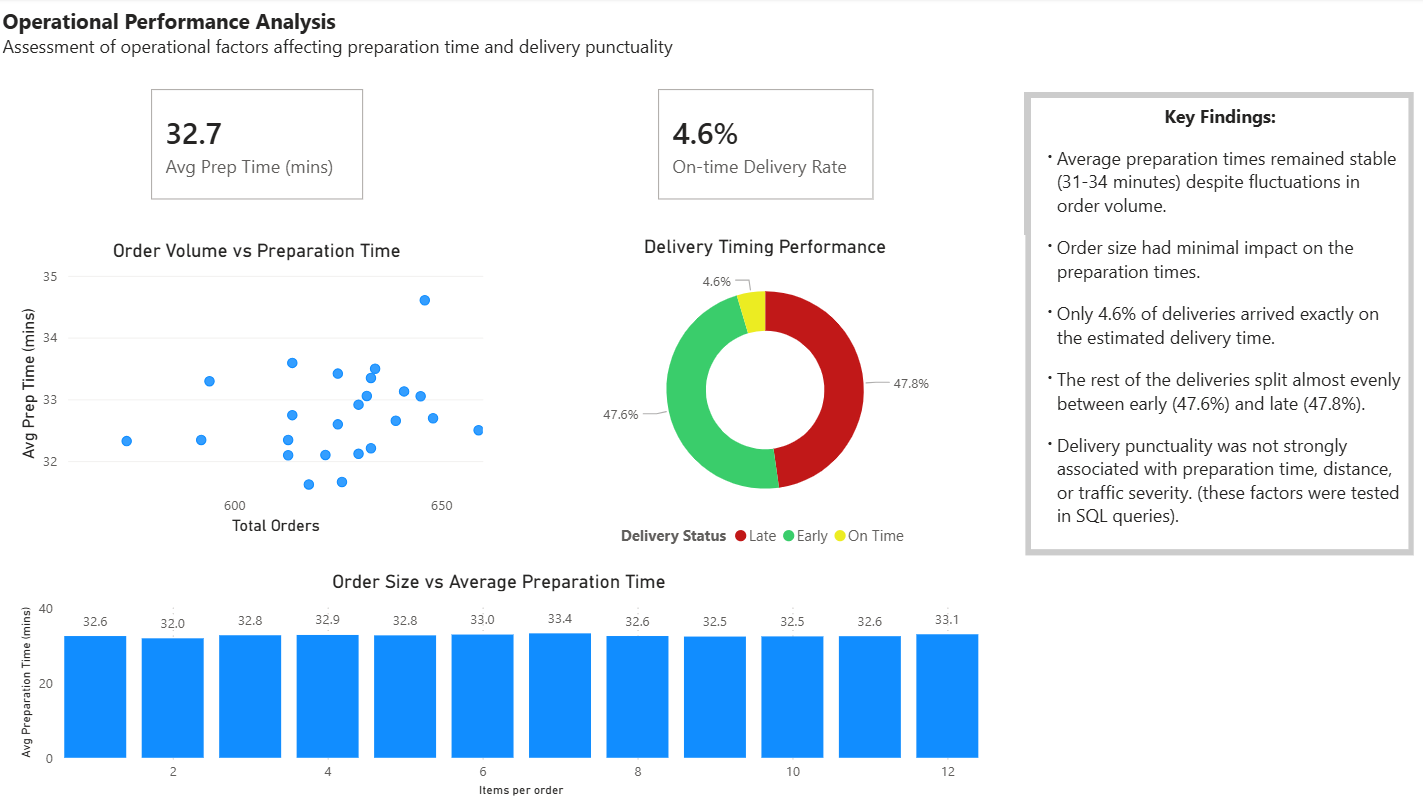

What the dashboard file says about the page in this screenshot:
{"tool":"powerbi","page":{"name":"Operational Performance Analysis","canvas":[1280,720],"ordinal":2},"visuals":[{"type":"shape","box":[920.1,84.6,349.2,415.3],"z":0},{"type":"textbox","box":[0,2.9,623.5,81.7],"z":1000},{"type":"scatterChart","title":"Order Volume vs Preparation Time","fields":{"X":["food_delivery_data.Total Orders"],"Category":["food_delivery_data.order_hour"],"Y":["food_delivery_data.Avg Prep Time (mins)"]},"box":[15.6,215.9,434.8,269.4],"z":2000},{"type":"cardVisual","fields":{"Data":["food_delivery_data.Avg Prep Time (mins)"]},"box":[120.6,64.2,224.7,133.3],"z":3000},{"type":"textbox","box":[926,89.5,338.5,403.6],"z":4000},{"type":"clusteredColumnChart","title":"Order Size vs Average Preparation Time","fields":{"Category":["food_delivery_data.number_of_items"],"Y":["food_delivery_data.Avg Prep Time (mins)"]},"box":[15.6,512.6,868.6,207.2],"z":5000},{"type":"donutChart","title":"Delivery Timing Performance","fields":{"Category":["food_delivery_data.Delivery Status"],"Y":["CountNonNull(food_delivery_data.Delivery Status)"]},"box":[455.2,212,465.9,287.9],"z":6000},{"type":"cardVisual","fields":{"Data":["food_delivery_data.On Time %"]},"box":[574.8,64.2,227.6,133.3],"z":7000}]}

Visuals, with their boxes in screenshot pixels (x1, y1, x2, y2), scaled from the page's 1280x720 canvas onto the 1423x798 screenshot:
shape: left=1023, top=94, right=1411, bottom=554
textbox: left=0, top=3, right=693, bottom=94
"Order Volume vs Preparation Time" scatterChart: left=17, top=239, right=501, bottom=538
cardVisual - food_delivery_data.Avg Prep Time (mins): left=134, top=71, right=384, bottom=219
textbox: left=1029, top=99, right=1406, bottom=547
"Order Size vs Average Preparation Time" clusteredColumnChart: left=17, top=568, right=983, bottom=797
"Delivery Timing Performance" donutChart: left=506, top=235, right=1024, bottom=554
cardVisual - food_delivery_data.On Time %: left=639, top=71, right=892, bottom=219
